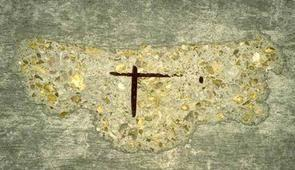exposed_rebar: (109, 66, 170, 117)
spalling: (7, 33, 280, 153)
